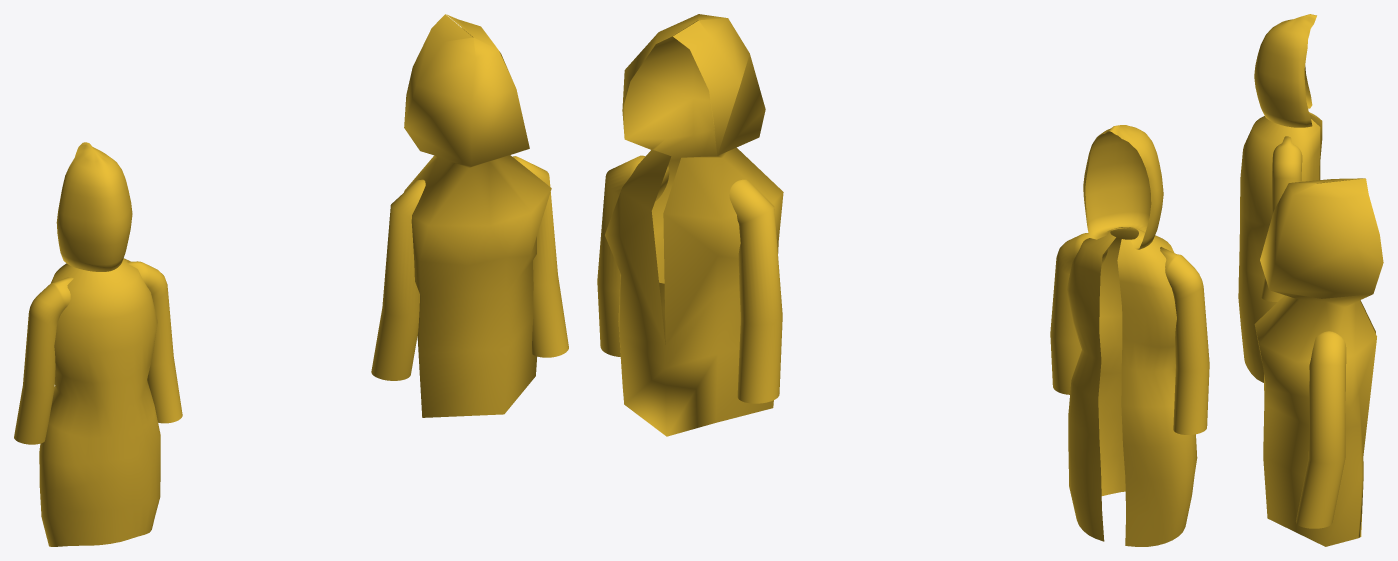
Rendered from RainCoat.fbx.
3 views of the same model, side by side, from view 1: azimuth 30°, elevation 25°; view 2: azimuth 150°, elevation 25°; view 3: azimuth 270°, elevation 25° (orthographic). The views are drawn at different scales.
Parts seen in each view (by area): view 1: Cylinder.002, Sphere.001; view 2: Cylinder.002, Sphere.001; view 3: Cylinder.002, Sphere.001.
Boxes of the visible parts, x1,y1,x2,y2 form: Cylinder.002: (371, 14, 568, 417); Sphere.001: (14, 142, 182, 546); Cylinder.002: (597, 14, 783, 436); Sphere.001: (1050, 125, 1209, 546); Cylinder.002: (1254, 178, 1383, 546); Sphere.001: (1238, 14, 1322, 382).
Size of the model in its own units: 2.08 by 1.44 by 0.5039.
